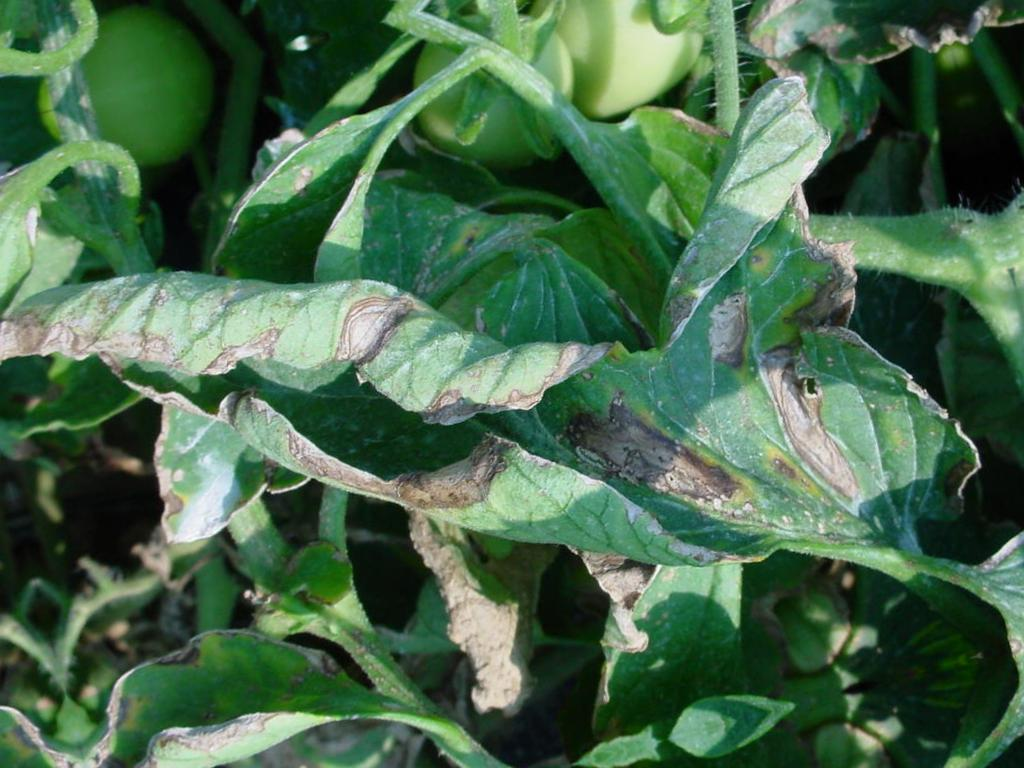Tomato leaf bacterial spot: (0, 24, 1020, 768)
